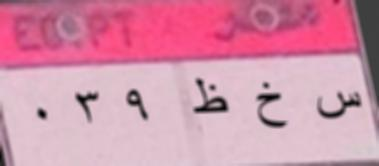0: (27, 101, 56, 124)
3: (70, 86, 104, 131)
9: (121, 84, 156, 124)
Thaa: (189, 76, 229, 124)
khaa: (250, 78, 290, 134)
seen: (314, 87, 362, 122)
